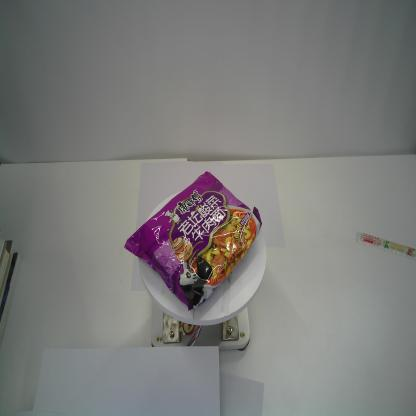Instant Noodles: (123, 171, 262, 311)
